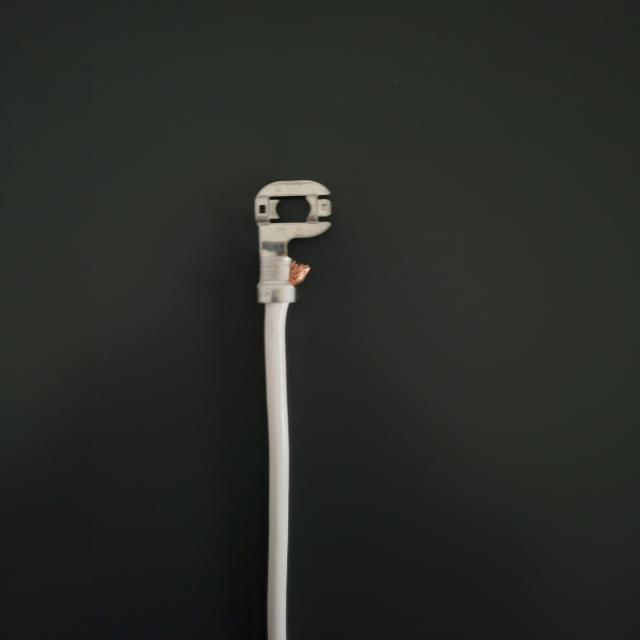defect: (226, 250, 359, 332)
